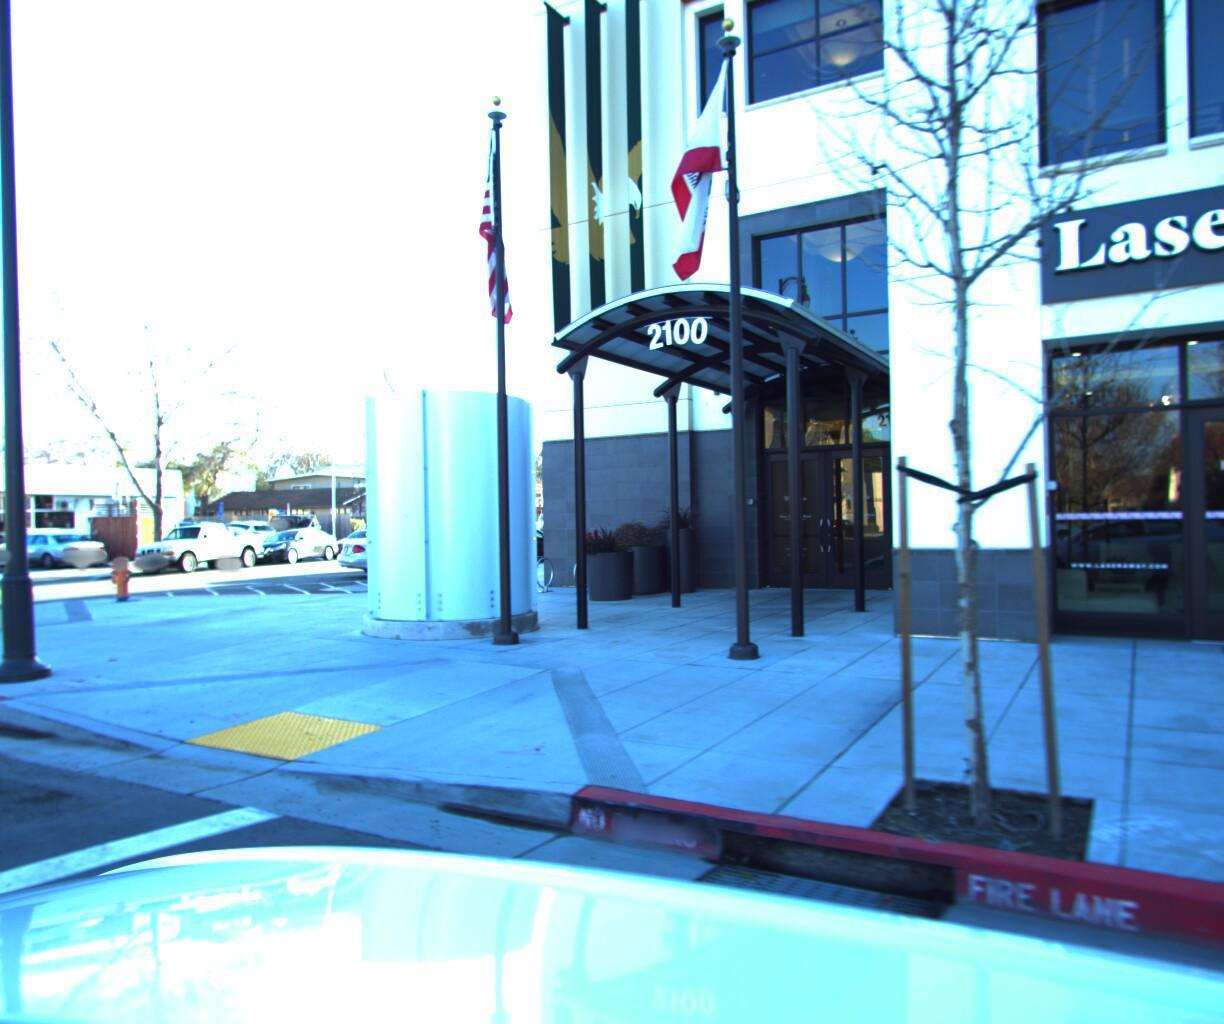car: (326, 515, 510, 578), (122, 517, 272, 570), (0, 523, 117, 565), (237, 520, 343, 561), (193, 514, 292, 548), (243, 507, 329, 544), (320, 520, 405, 554), (0, 523, 27, 569)
